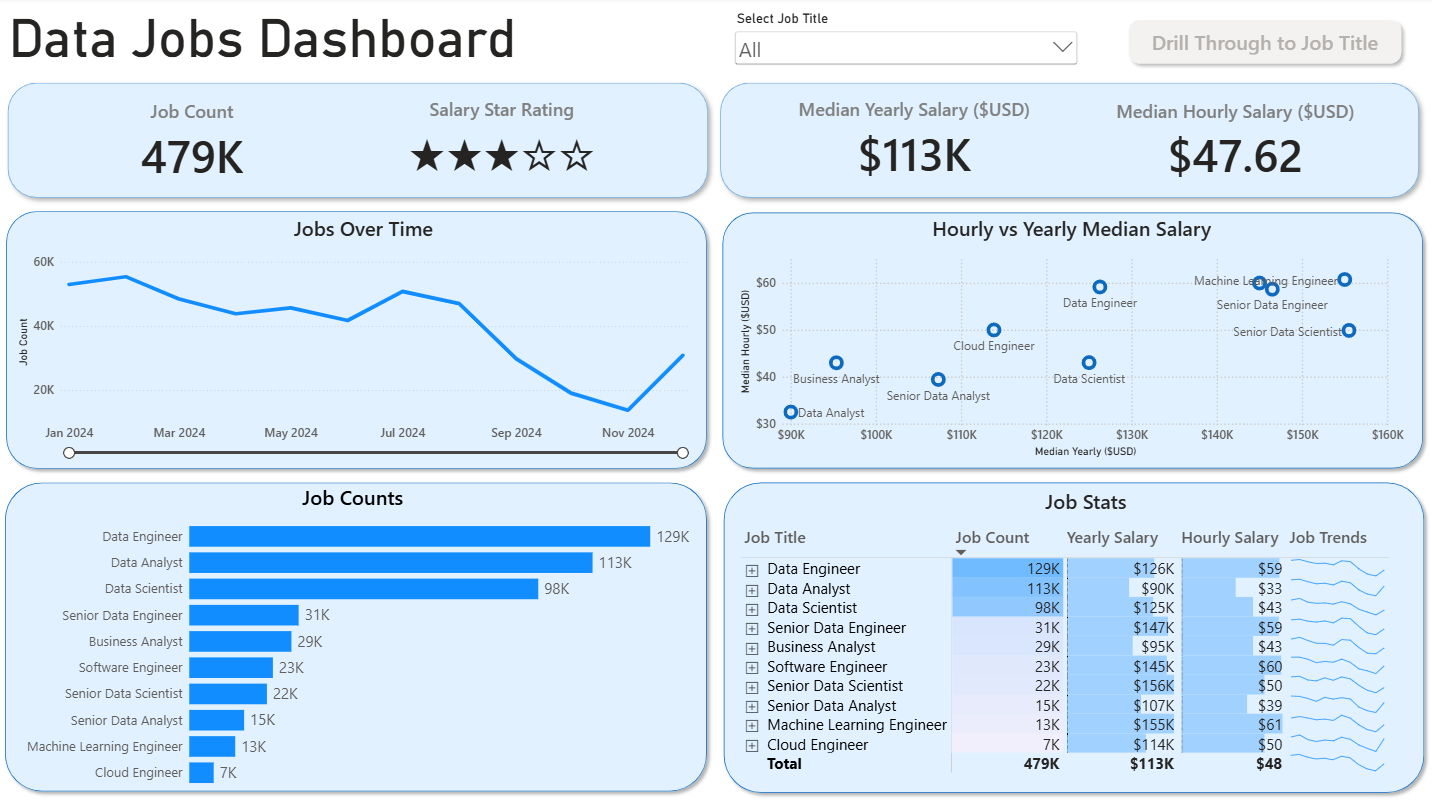

Layout of this report page (visuals, bound fields, positions):
{"tool":"powerbi","page":{"name":"Data Jobs Dashboard","canvas":[1920,1080],"ordinal":0},"visuals":[{"type":"shape","box":[3,103.2,957.3,175.5],"z":0,"group":"g1"},{"type":"group","id":"g1","title":"Background","box":[1.8,103.2,1914.6,968.2],"z":500},{"type":"textbox","title":"Data Jobs Dashboard","box":[0,12.7,709.4,85.1],"z":1000},{"type":"shape","box":[955.5,103.2,955.5,175.5],"z":2000,"group":"g1"},{"type":"slicer","fields":{"Values":["job_postings_flat.job_title_short"]},"box":[975.4,12.7,477.8,77.8],"z":3000},{"type":"shape","box":[3.6,276.9,953.7,361.9],"z":4000,"group":"g1"},{"type":"cardVisual","fields":{"Data":["job_postings_flat.Salary Star Rating"]},"box":[436.1,117.6,477.8,148.4],"z":5000},{"type":"cardVisual","fields":{"Data":["CountNonNull(job_postings_flat.job_title_short)"]},"box":[19.9,119.4,481.4,146.6],"z":6000},{"type":"shape","box":[1.8,638.9,955.5,430.7],"z":7000,"group":"g1"},{"type":"cardVisual","fields":{"Data":["Median(job_postings_flat.salary_year_avg)"]},"box":[986.3,117.6,477.8,148.4],"z":8000},{"type":"cardVisual","fields":{"Data":["Median(job_postings_flat.salary_hour_avg)"]},"box":[1413.3,119.4,483.2,144.8],"z":9000},{"type":"lineChart","title":"Jobs Over Time","fields":{"Category":["job_postings_flat.job_posted_date.Variation.Date Hierarchy.Year","job_postings_flat.job_posted_date.Variation.Date Hierarchy.Quarter","job_postings_flat.job_posted_date.Variation.Date Hierarchy.Month","job_postings_flat.job_posted_date.Variation.Date Hierarchy.Day"],"Y":["CountNonNull(job_postings_flat.job_title_short)"]},"box":[21.7,291.4,935.6,329.4],"z":10000},{"type":"barChart","title":"Job Counts","fields":{"Category":["job_postings_flat.job_title_short"],"Y":["CountNonNull(job_postings_flat.job_title_short)"]},"box":[19.9,649.7,910.3,420],"z":11000},{"type":"scatterChart","title":"Hourly vs Yearly Median Salary","fields":{"Series":["job_postings_flat.job_title_short"],"X":["job_postings_flat.salary_year_avg"],"Y":["Median(job_postings_flat.salary_hour_avg)"]},"box":[986.3,291.4,897.6,329.4],"z":12000},{"type":"pivotTable","title":"Job Stats","fields":{"Rows":["job_postings_flat.job_title_short","job_postings_flat.job_posted_date.Variation.Date Hierarchy.Quarter"],"Values":["CountNonNull(job_postings_flat.job_title_short)","Median(job_postings_flat.salary_year_avg)","Median(job_postings_flat.salary_hour_avg)","SparklineData(CountNonNull(job_postings_flat.job_title_short)_[job_postings_flat.job_posted_date.Variation.Date Hierarch"]},"box":[988.1,655.1,932,394.5],"z":13000},{"type":"actionButton","box":[1502,21.7,381.8,76],"z":13001},{"type":"shape","box":[960.9,278.7,953.7,360.1],"z":14000,"group":"g1"},{"type":"shape","box":[962.7,638.9,953.7,432.5],"z":15000,"group":"g1"}]}

Visuals, with their boxes in screenshot pixels (x1, y1, x2, y2), scaled from the page's 1920x1080 canvas onto the 1432x801 screenshot:
shape: locate(2, 77, 716, 207)
"Background" group: locate(1, 77, 1429, 795)
"Data Jobs Dashboard" textbox: locate(0, 9, 529, 73)
shape: locate(713, 77, 1425, 207)
slicer - job_postings_flat.job_title_short: locate(727, 9, 1084, 67)
shape: locate(3, 205, 714, 474)
cardVisual - job_postings_flat.Salary Star Rating: locate(325, 87, 682, 197)
cardVisual - CountNonNull(job_postings_flat.job_title_short): locate(15, 89, 374, 197)
shape: locate(1, 474, 714, 793)
cardVisual - Median(job_postings_flat.salary_year_avg): locate(736, 87, 1092, 197)
cardVisual - Median(job_postings_flat.salary_hour_avg): locate(1054, 89, 1414, 196)
"Jobs Over Time" lineChart: locate(16, 216, 714, 460)
"Job Counts" barChart: locate(15, 482, 694, 793)
"Hourly vs Yearly Median Salary" scatterChart: locate(736, 216, 1405, 460)
"Job Stats" pivotTable: locate(737, 486, 1431, 778)
actionButton: locate(1120, 16, 1405, 72)
shape: locate(717, 207, 1428, 474)
shape: locate(718, 474, 1429, 795)
